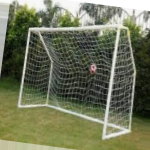goals: (15, 21, 136, 142)
